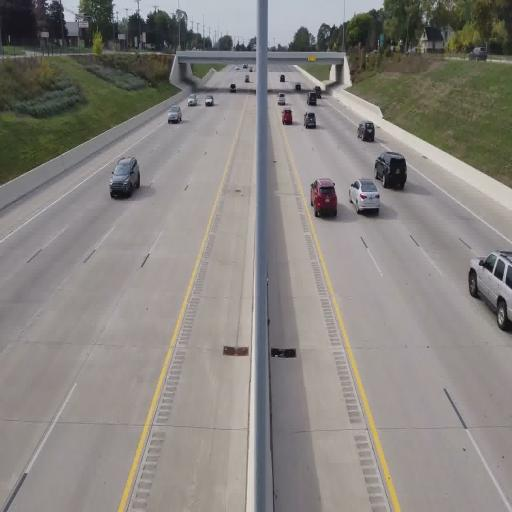Car: (468, 250, 512, 330), (374, 150, 407, 190), (110, 157, 140, 199), (310, 176, 338, 218), (349, 178, 380, 215), (357, 120, 375, 142), (168, 105, 182, 123), (303, 110, 317, 128), (282, 106, 292, 125), (188, 94, 197, 106), (205, 95, 214, 107)
Truck: (277, 90, 286, 105)
